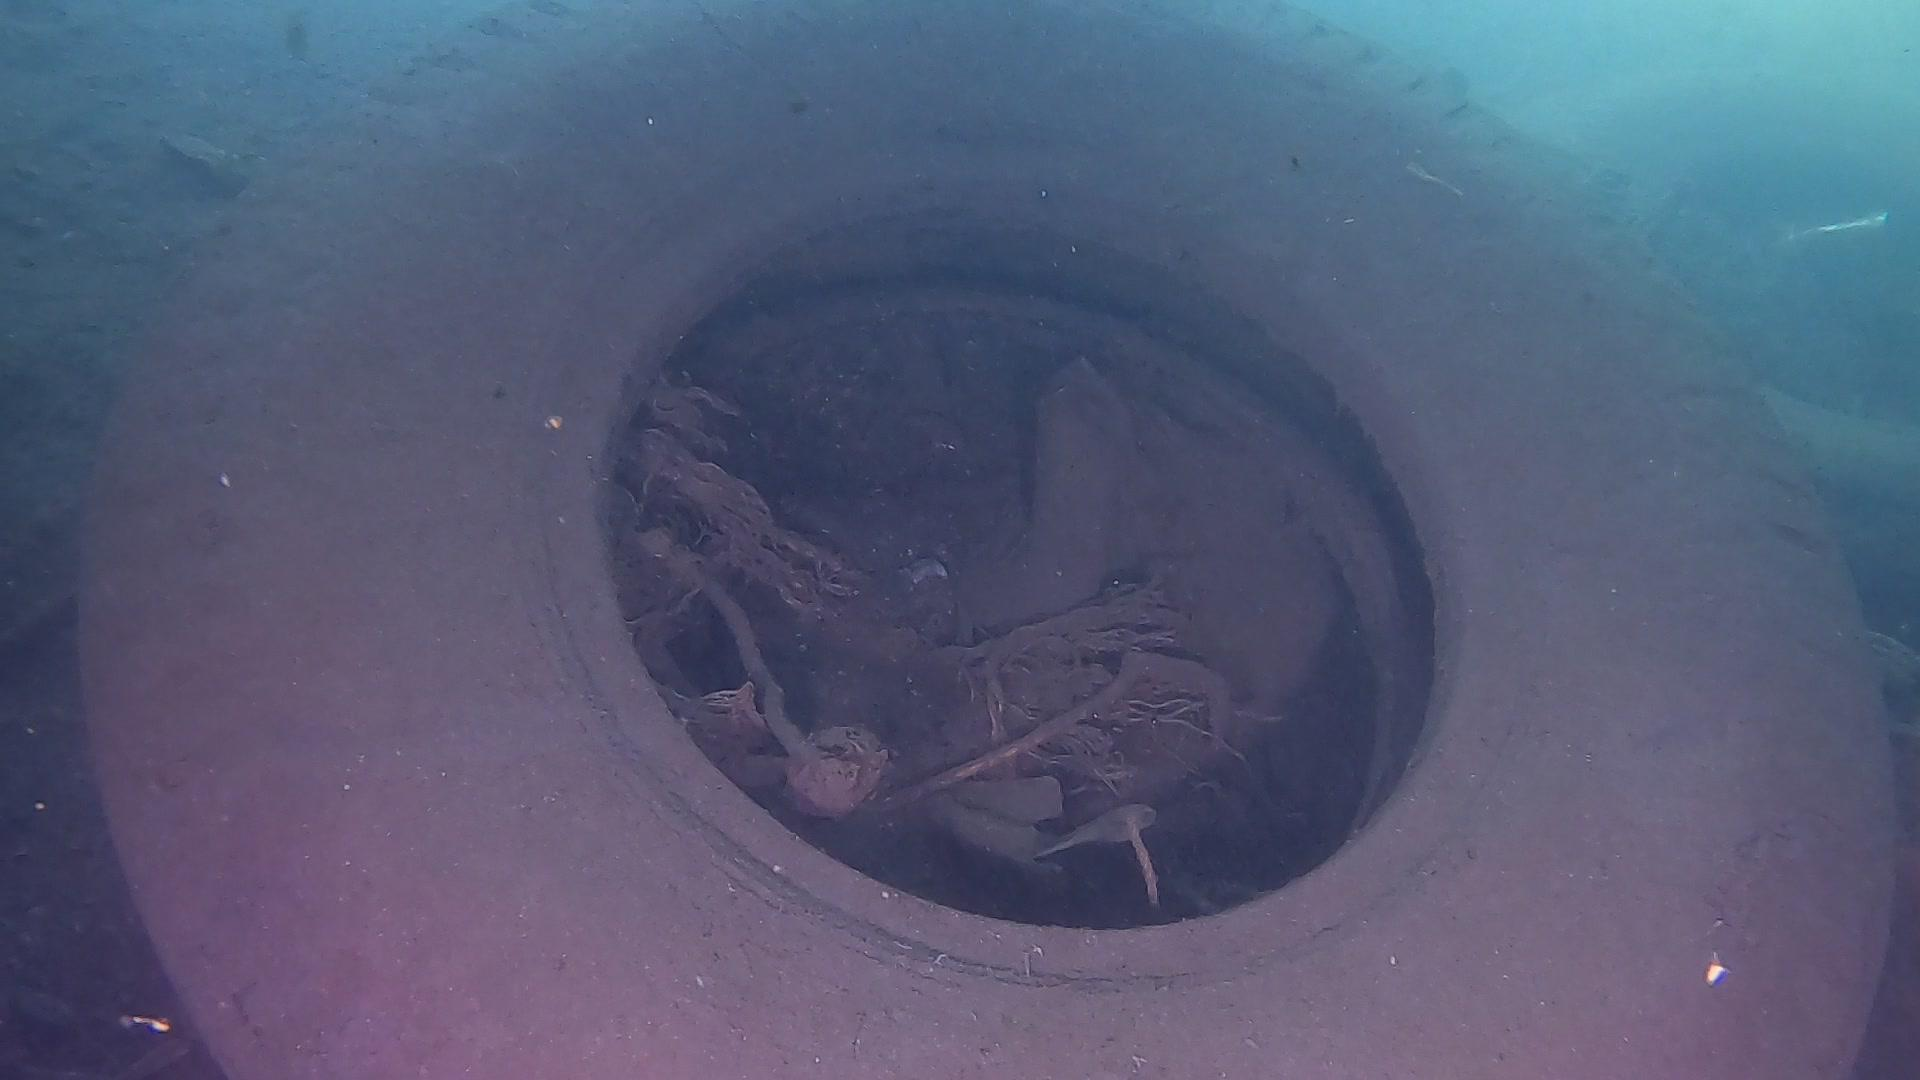tire: (69, 0, 1903, 1080)
